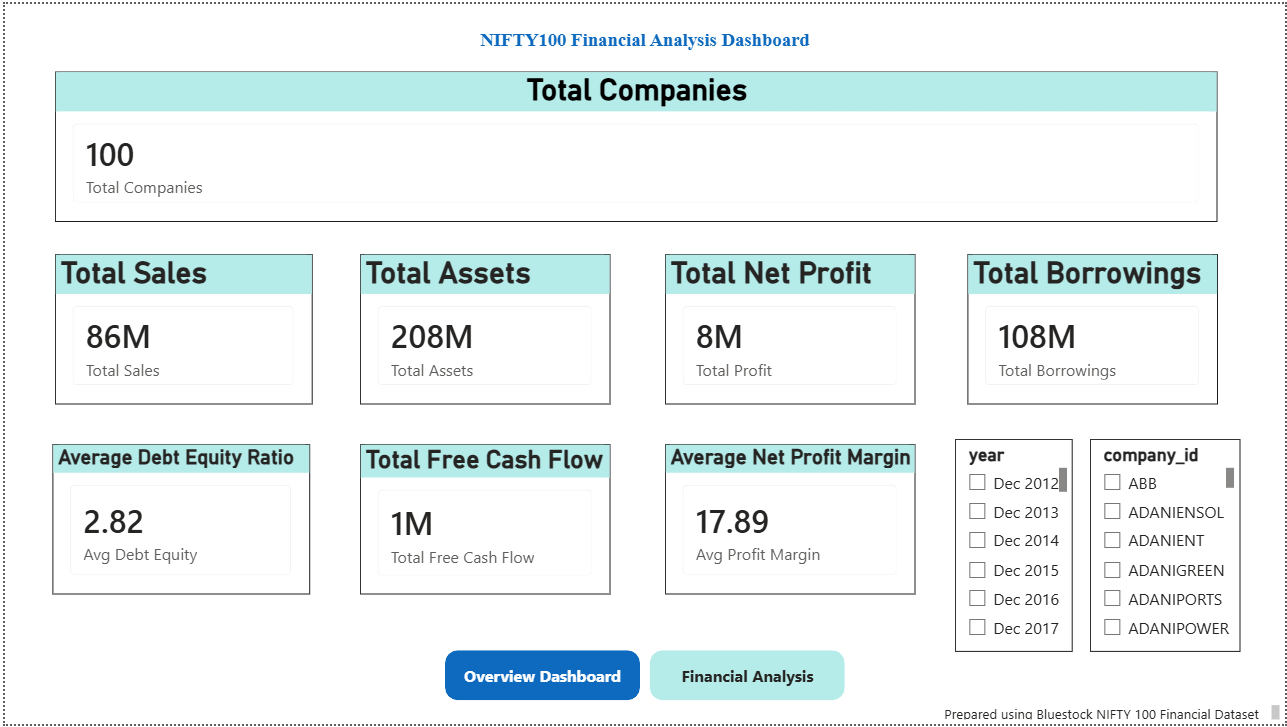

The page's visual inventory and layout, read from the dashboard file:
{"tool":"powerbi","page":{"name":"Overview Dashboard","canvas":[1280,720],"ordinal":0},"visuals":[{"type":"cardVisual","title":"Total Companies","fields":{"Data":["Sheet1.Total Companies"]},"box":[50,67.5,1162.5,150],"z":0},{"type":"cardVisual","title":"Total Sales","fields":{"Data":["Sheet1.Total Sales"]},"box":[50,250,257.5,150],"z":1000},{"type":"cardVisual","title":"Total Net Profit","fields":{"Data":["Sheet1.Total Profit"]},"box":[660,250,250,150],"z":2000},{"type":"cardVisual","title":"Total Assets","fields":{"Data":["Sheet1.Total Assets"]},"box":[355,250,250,150],"z":3000},{"type":"cardVisual","title":"Total Borrowings","fields":{"Data":["Sheet1.Total Borrowings"]},"box":[962.5,250,250,150],"z":4000},{"type":"cardVisual","title":"Average Net Profit Margin","fields":{"Data":["Sheet1.Avg Profit Margin"]},"box":[660,440,250,150],"z":5000},{"type":"cardVisual","title":"Average Debt Equity Ratio","fields":{"Data":["Sheet1.Avg Debt Equity"]},"box":[47.5,440,257.5,150],"z":6000},{"type":"cardVisual","title":"Total Free Cash Flow","fields":{"Data":["Sheet1.Total Free Cash Flow"]},"box":[355,440,250,150],"z":7000},{"type":"slicer","fields":{"Values":["Sheet1.year"]},"box":[950,435,117.5,212.5],"z":8000},{"type":"slicer","fields":{"Values":["Sheet1.company_id"]},"box":[1085,435,150,212.5],"z":9000},{"type":"pageNavigator","box":[440,646.7,400,50],"z":10000},{"type":"textbox","box":[0,20,1280,47.5],"z":11000},{"type":"textbox","box":[934,696,346,24],"z":12000}]}

Visuals, with their boxes in screenshot pixels (x1, y1, x2, y2), scaled from the page's 1280x720 canvas onto the 1287x727 screenshot:
"Total Companies" cardVisual: <bbox>50, 68, 1219, 220</bbox>
"Total Sales" cardVisual: <bbox>50, 252, 309, 404</bbox>
"Total Net Profit" cardVisual: <bbox>664, 252, 915, 404</bbox>
"Total Assets" cardVisual: <bbox>357, 252, 608, 404</bbox>
"Total Borrowings" cardVisual: <bbox>968, 252, 1219, 404</bbox>
"Average Net Profit Margin" cardVisual: <bbox>664, 444, 915, 596</bbox>
"Average Debt Equity Ratio" cardVisual: <bbox>48, 444, 307, 596</bbox>
"Total Free Cash Flow" cardVisual: <bbox>357, 444, 608, 596</bbox>
slicer - Sheet1.year: <bbox>955, 439, 1073, 654</bbox>
slicer - Sheet1.company_id: <bbox>1091, 439, 1242, 654</bbox>
pageNavigator: <bbox>442, 653, 845, 703</bbox>
textbox: <bbox>0, 20, 1286, 68</bbox>
textbox: <bbox>939, 703, 1286, 726</bbox>
